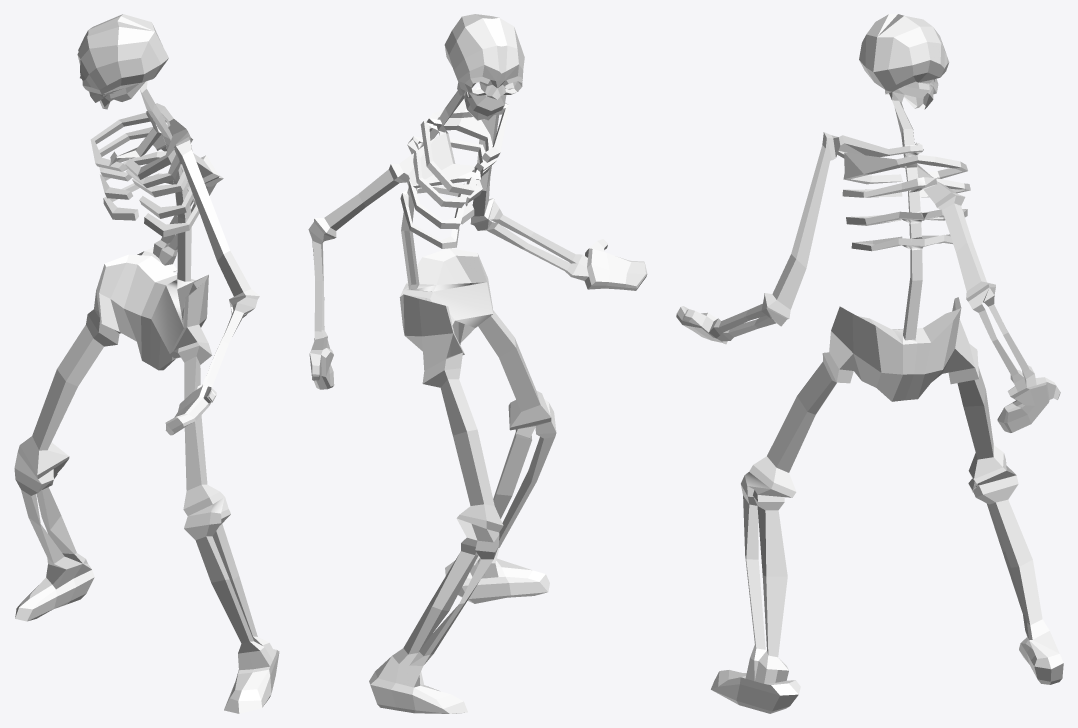
File: SkeletonIdle(83).obj
3 renders of one model, left to right at view 1: azimuth 30°, elevation 25°; view 2: azimuth 150°, elevation 25°; view 3: azimuth 270°, elevation 25°, orthographic. The views are drawn at different scales.
Parts seen in each view (by area): view 1: Object002; view 2: Object002; view 3: Object002.
Boxes of the visible parts, x1,y1,x2,y2 form: Object002: (14,14,279,713); Object002: (308,14,647,713); Object002: (676,14,1063,713).
Bounding box in the file's own units: 363 × 1135 × 608.
